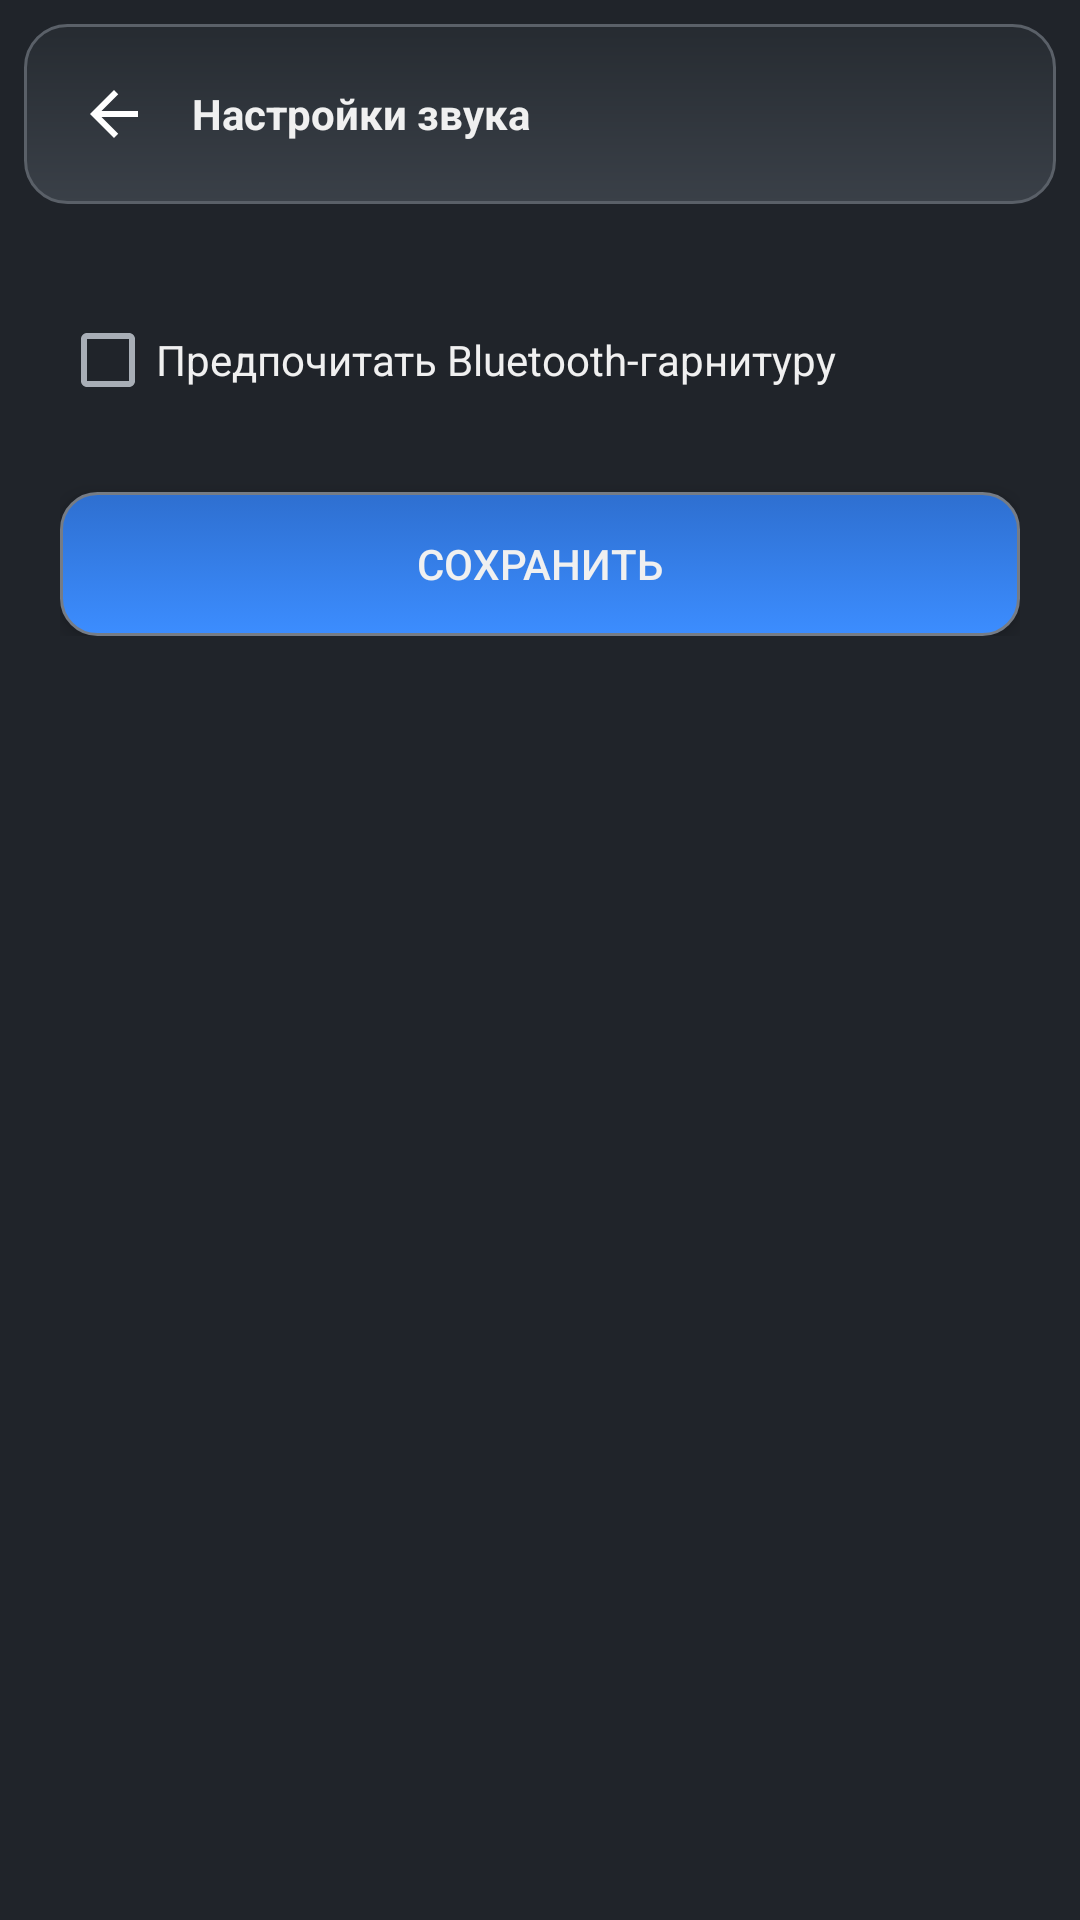

Named icons in this screenshot (1080 x 1920) and their centers, point (x, y):
Назад: point (114, 114)
